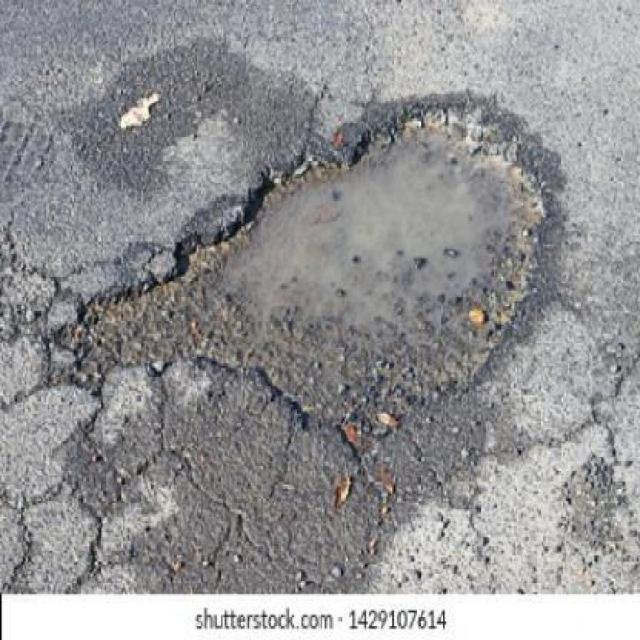Buraco: (44, 92, 570, 469)
